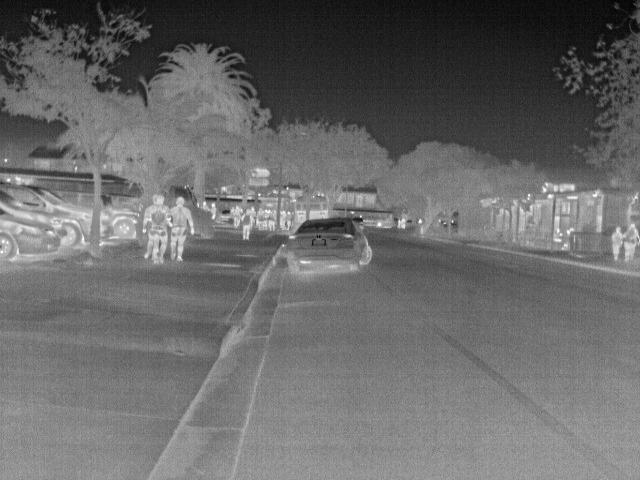car: (1, 182, 92, 251), (287, 217, 375, 274), (1, 204, 63, 262), (106, 204, 138, 240), (219, 208, 237, 222)
person: (166, 196, 196, 262), (143, 195, 171, 263), (622, 222, 640, 264), (609, 225, 624, 262), (241, 208, 257, 242), (552, 223, 567, 242), (265, 210, 277, 230)
